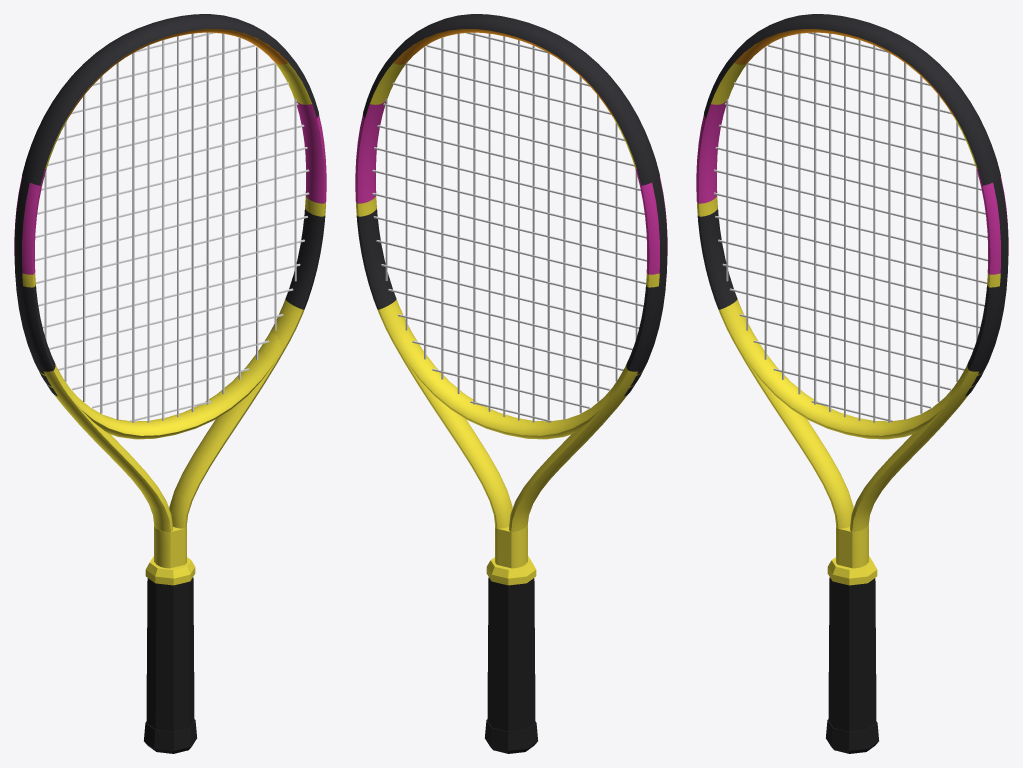
The model's file is babolat-rafa-nadal-junior-25-2021gen.glb.
3 views of the same model, side by side, from view 1: azimuth 30°, elevation 25°; view 2: azimuth 150°, elevation 25°; view 3: azimuth 330°, elevation 25° (orthographic).
Parts seen in each view (by area): view 1: frame, strings_mains, strings_crosses, grip, bumper, grommets, butt_cap, collar; view 2: frame, strings_mains, strings_crosses, grip, bumper, grommets, butt_cap, collar; view 3: frame, strings_mains, strings_crosses, grip, bumper, grommets, butt_cap, collar.
Boxes of the visible parts, x1=… form: frame: x1=14, y1=29, x2=326, y2=568; strings_mains: x1=44, y1=32, x2=296, y2=422; strings_crosses: x1=35, y1=32, x2=309, y2=422; grip: x1=146, y1=577, x2=194, y2=731; bumper: x1=22, y1=14, x2=318, y2=185; grommets: x1=14, y1=177, x2=57, y2=396; butt_cap: x1=144, y1=720, x2=196, y2=753; collar: x1=145, y1=556, x2=195, y2=585; frame: x1=355, y1=29, x2=667, y2=568; strings_mains: x1=385, y1=32, x2=637, y2=422; strings_crosses: x1=372, y1=32, x2=646, y2=422; grip: x1=487, y1=577, x2=535, y2=731; bumper: x1=363, y1=14, x2=659, y2=185; grommets: x1=624, y1=177, x2=667, y2=396; butt_cap: x1=485, y1=720, x2=537, y2=753; collar: x1=486, y1=556, x2=536, y2=585; frame: x1=696, y1=29, x2=1008, y2=568; strings_mains: x1=726, y1=32, x2=978, y2=422; strings_crosses: x1=713, y1=32, x2=987, y2=422; grip: x1=828, y1=577, x2=876, y2=731; bumper: x1=704, y1=14, x2=1000, y2=185; grommets: x1=965, y1=177, x2=1008, y2=396; butt_cap: x1=826, y1=720, x2=878, y2=753; collar: x1=827, y1=556, x2=877, y2=585.
Bounding box in the file's own units: 0.2813 × 0.6353 × 0.0396.
